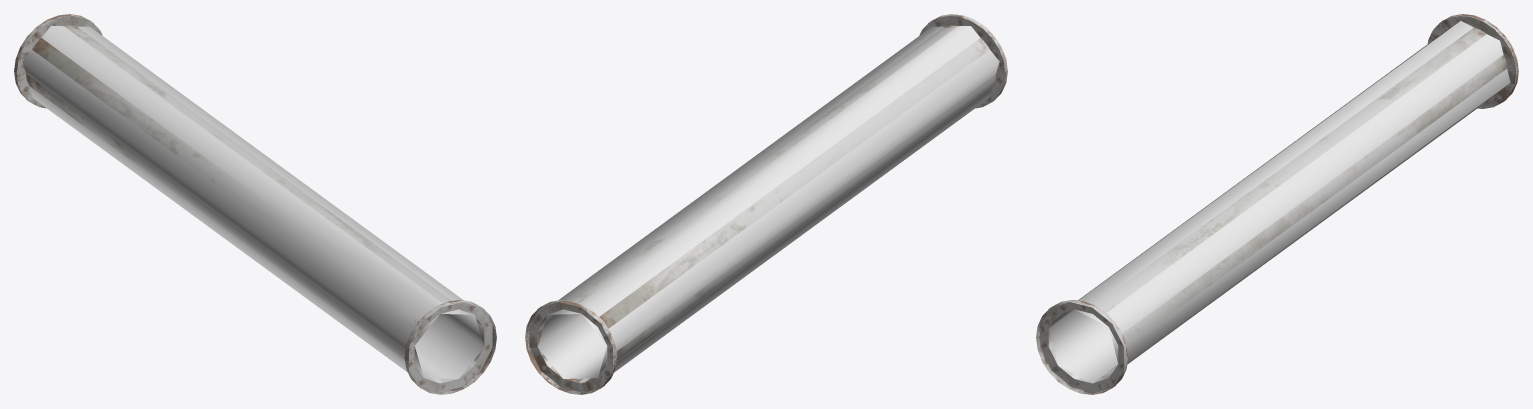
File: s_screwconveyor_03.dae
3 renders of one model, left to right at view 1: azimuth 30°, elevation 25°; view 2: azimuth 150°, elevation 25°; view 3: azimuth 330°, elevation 25°, orthographic.
Visible parts, largest first — view 1: Colmesh_s_screwconveyor_03-1, s_screwconveyor_03_L450, s_screwconveyor_03_L30, s_screwconveyor_03_L150; view 2: Colmesh_s_screwconveyor_03-1, s_screwconveyor_03_L450, s_screwconveyor_03_L30, s_screwconveyor_03_L150; view 3: Colmesh_s_screwconveyor_03-1, s_screwconveyor_03_L450, s_screwconveyor_03_L150, s_screwconveyor_03_L30.
Part boxes in pixels (x1=…): Colmesh_s_screwconveyor_03-1: x1=22, y1=26, x2=483, y2=382; s_screwconveyor_03_L450: x1=14, y1=14, x2=496, y2=394; s_screwconveyor_03_L30: x1=414, y1=310, x2=483, y2=378; s_screwconveyor_03_L150: x1=18, y1=16, x2=495, y2=394; Colmesh_s_screwconveyor_03-1: x1=538, y1=26, x2=999, y2=382; s_screwconveyor_03_L450: x1=525, y1=14, x2=1007, y2=394; s_screwconveyor_03_L30: x1=538, y1=310, x2=607, y2=378; s_screwconveyor_03_L150: x1=526, y1=16, x2=1003, y2=394; Colmesh_s_screwconveyor_03-1: x1=1049, y1=21, x2=1510, y2=379; s_screwconveyor_03_L450: x1=1036, y1=14, x2=1518, y2=394; s_screwconveyor_03_L150: x1=1037, y1=16, x2=1514, y2=394; s_screwconveyor_03_L30: x1=1049, y1=309, x2=1118, y2=383.
Bounding box in the file's own units: 0.3945 × 3 × 0.3809.
